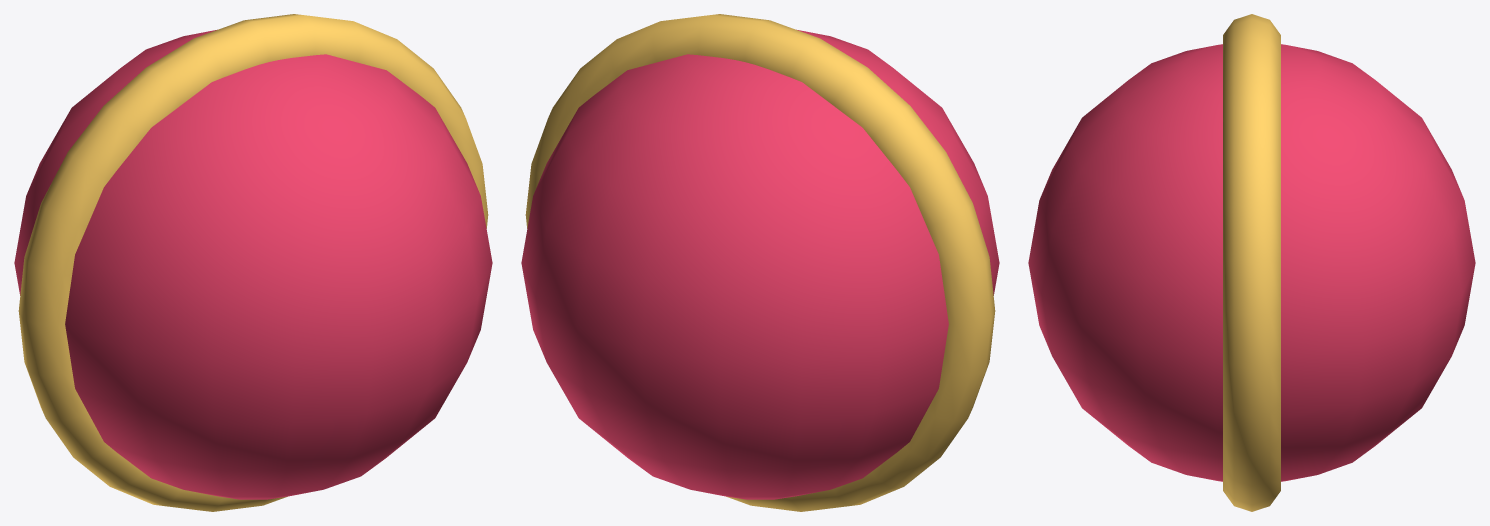
File: ball.glb
The picture shows the model from 3 angles, left to right: view 1: azimuth 30°, elevation 25°; view 2: azimuth 150°, elevation 25°; view 3: azimuth 270°, elevation 25°; orthographic projection. The views are drawn at different scales.
Visible parts, largest first — view 1: Ball.001, Stripe; view 2: Ball.001, Stripe; view 3: Ball.001, Stripe.
Boxes of the visible parts, bbox=[...] form: Ball.001: bbox=[14, 29, 492, 499]; Stripe: bbox=[18, 14, 488, 511]; Ball.001: bbox=[521, 29, 999, 499]; Stripe: bbox=[525, 14, 995, 511]; Ball.001: bbox=[1028, 44, 1475, 481]; Stripe: bbox=[1223, 14, 1280, 511].
Size of the model in its own units: 0.49 by 0.49 by 0.44.
